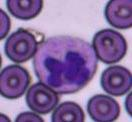N: (34, 36, 98, 94)
